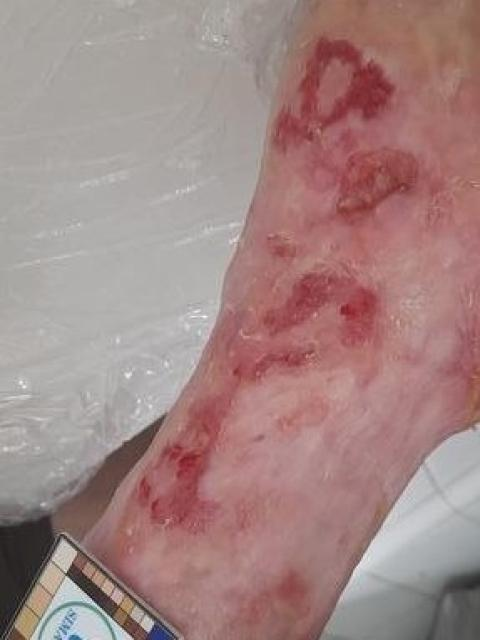wound: (124, 236, 391, 532), (271, 34, 393, 151), (333, 144, 423, 226)
